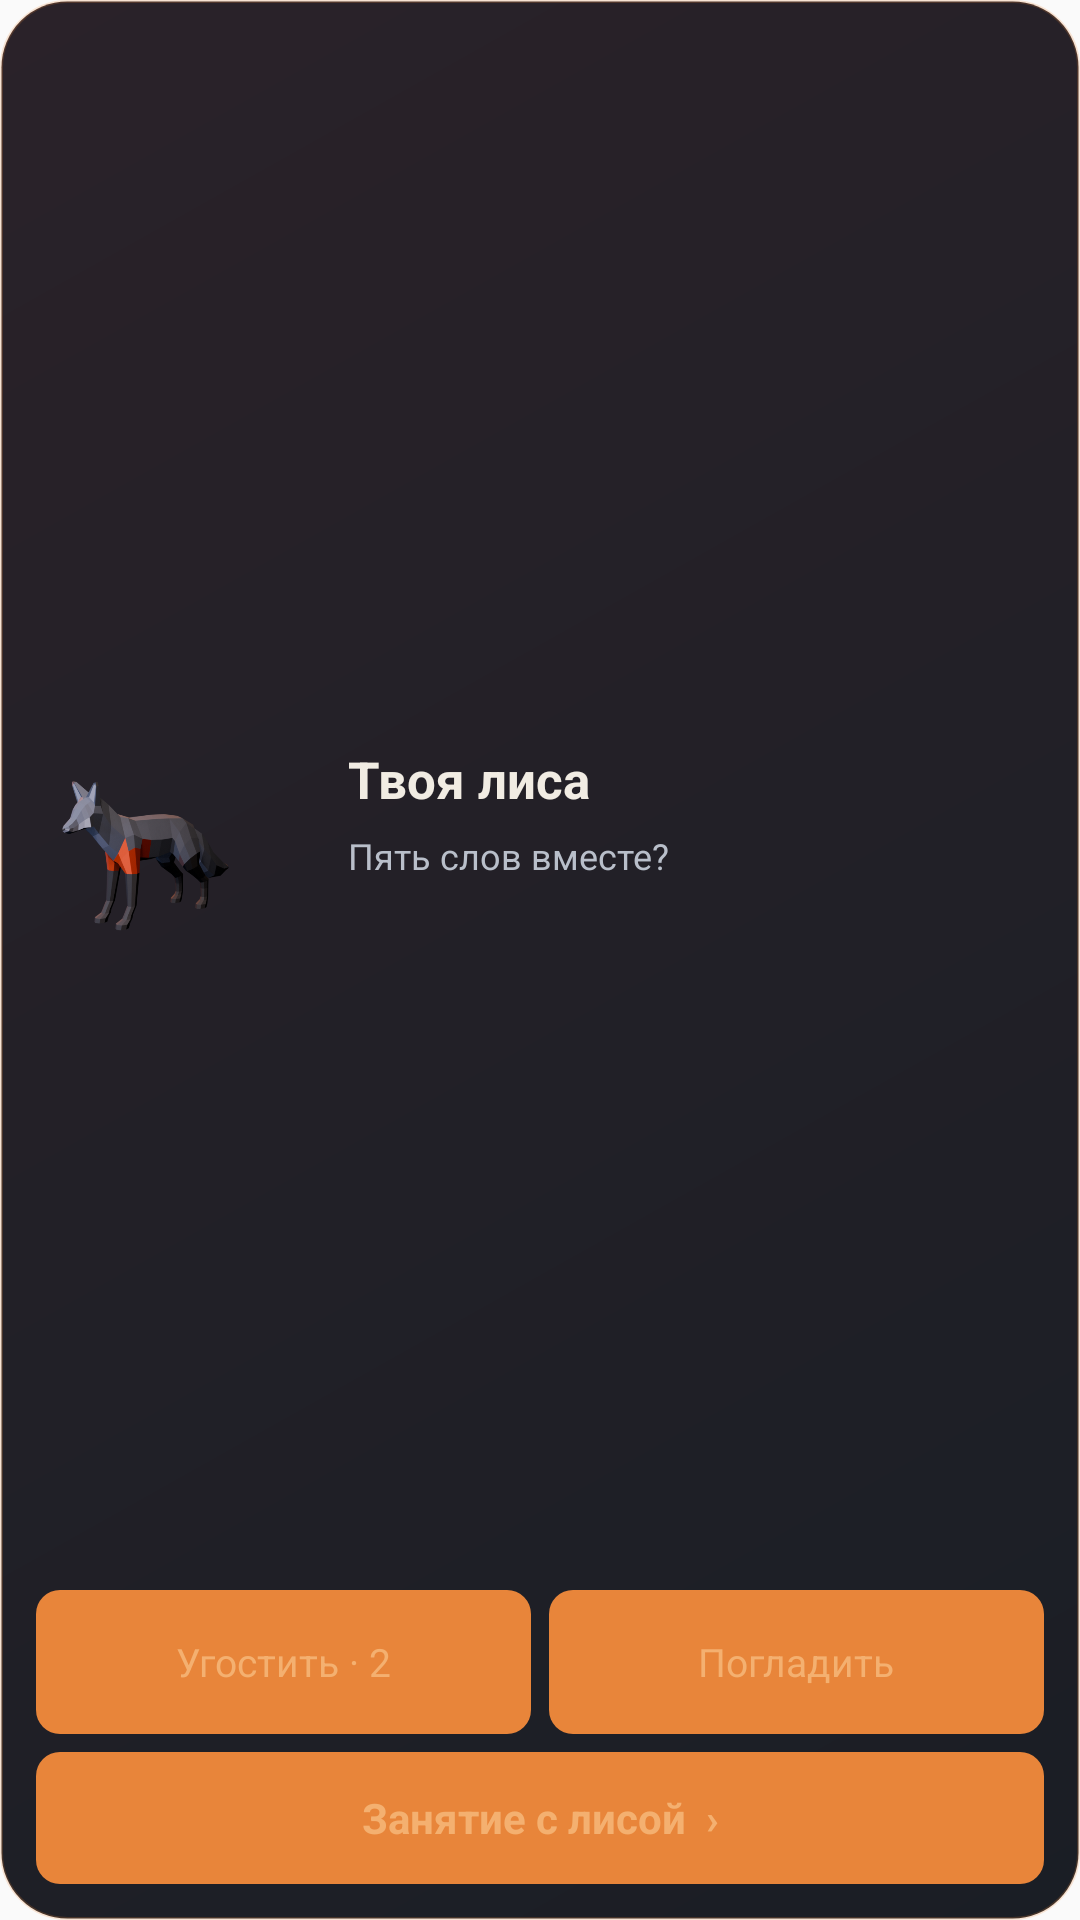

Icon bounding boxes for this 1080×1920 phone screenshot, format bbox(x1, y1, x2, y2):
Лиса-компаньон: bbox(62, 781, 228, 930)
